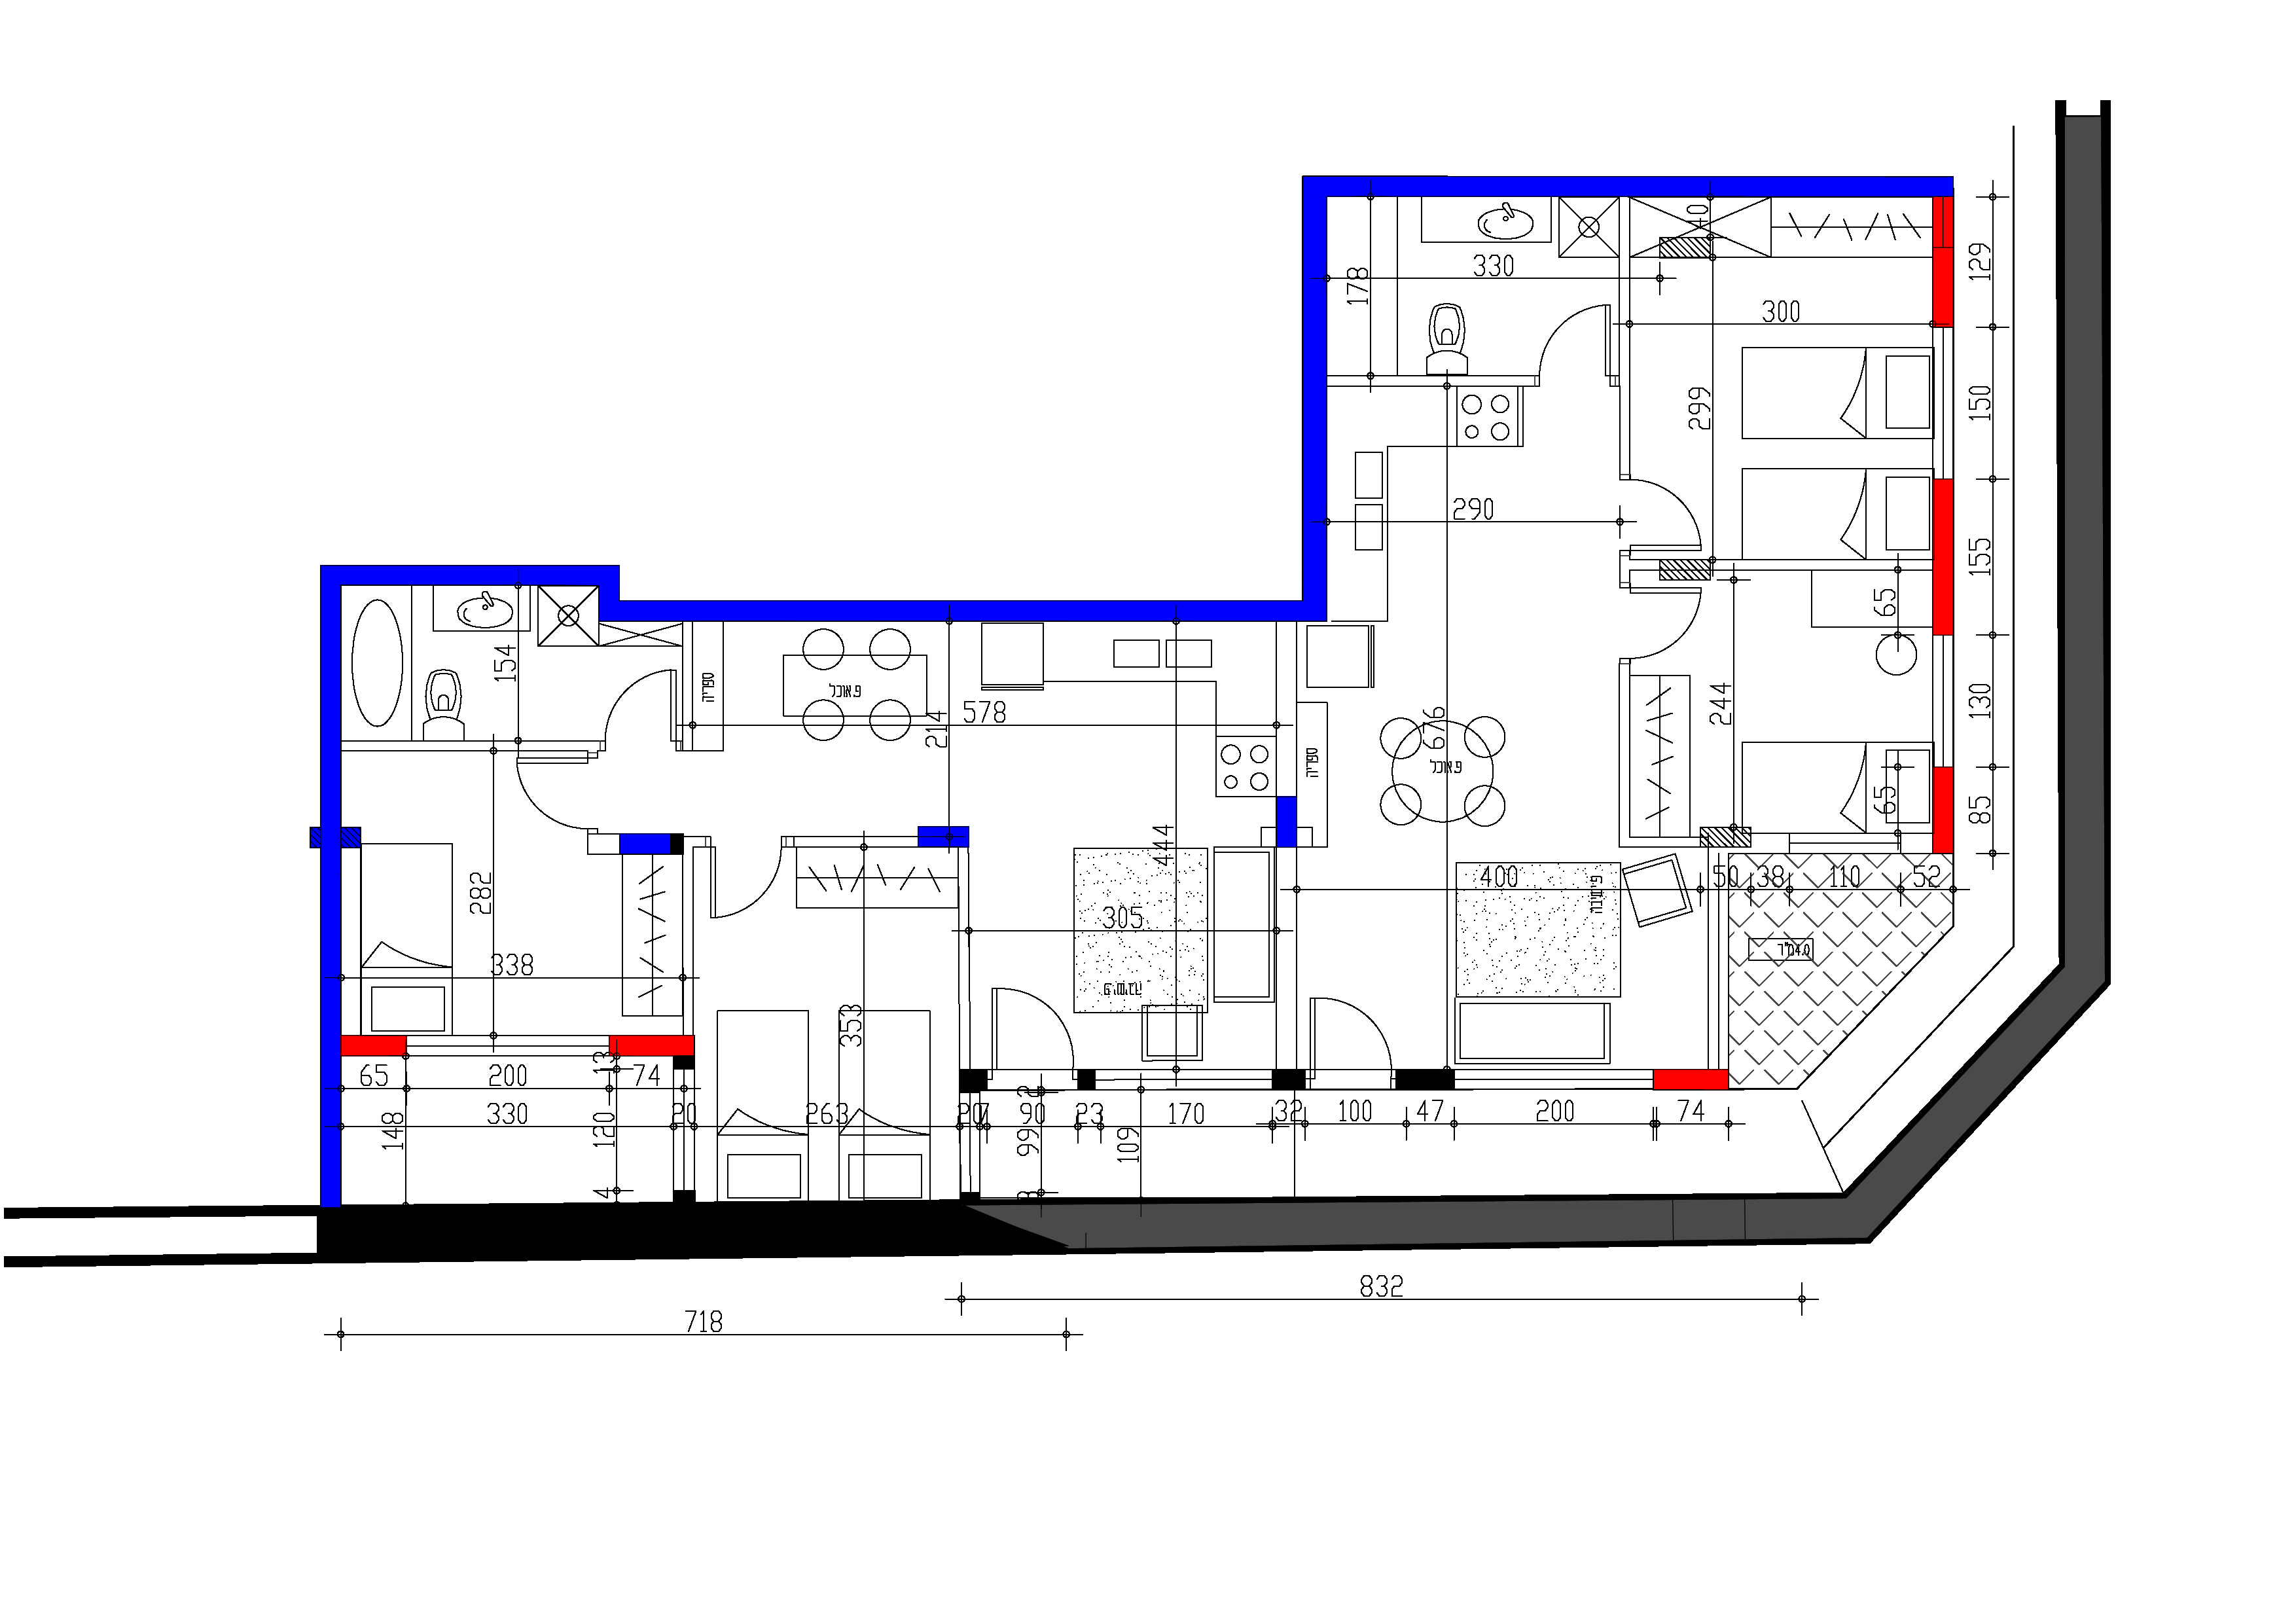door: (1307, 988, 1400, 1067), (989, 977, 1072, 1065), (1530, 302, 1611, 373), (711, 840, 780, 921), (1634, 468, 1708, 541), (583, 670, 671, 729), (508, 758, 580, 828), (1635, 582, 1699, 659)
